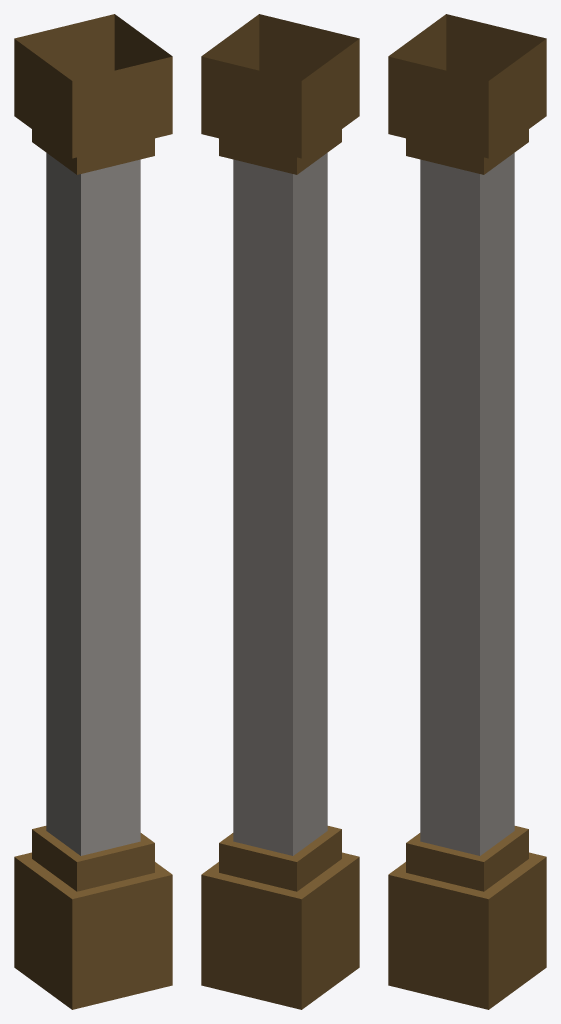
The model's file is AI_Env_Church_Pillar.fbx.
3 renders of one model, left to right at view 1: azimuth 30°, elevation 25°; view 2: azimuth 150°, elevation 25°; view 3: azimuth 330°, elevation 25°, orthographic.
Parts seen in each view (by area): view 1: AI_Env_Church_Pillar; view 2: AI_Env_Church_Pillar; view 3: AI_Env_Church_Pillar.
Part boxes in pixels (x1,y1,x2,y2): AI_Env_Church_Pillar: (14, 14, 172, 1009); AI_Env_Church_Pillar: (201, 14, 359, 1009); AI_Env_Church_Pillar: (388, 14, 546, 1009).
Size of the model in its own units: 1 by 8.83 by 1.
